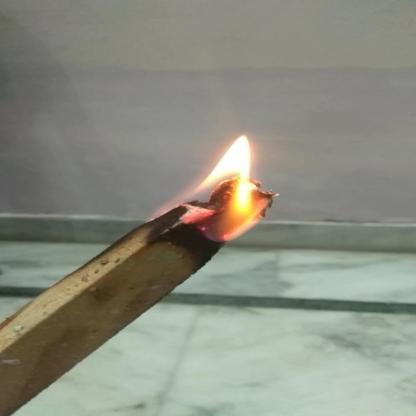fire: (147, 130, 290, 244)
